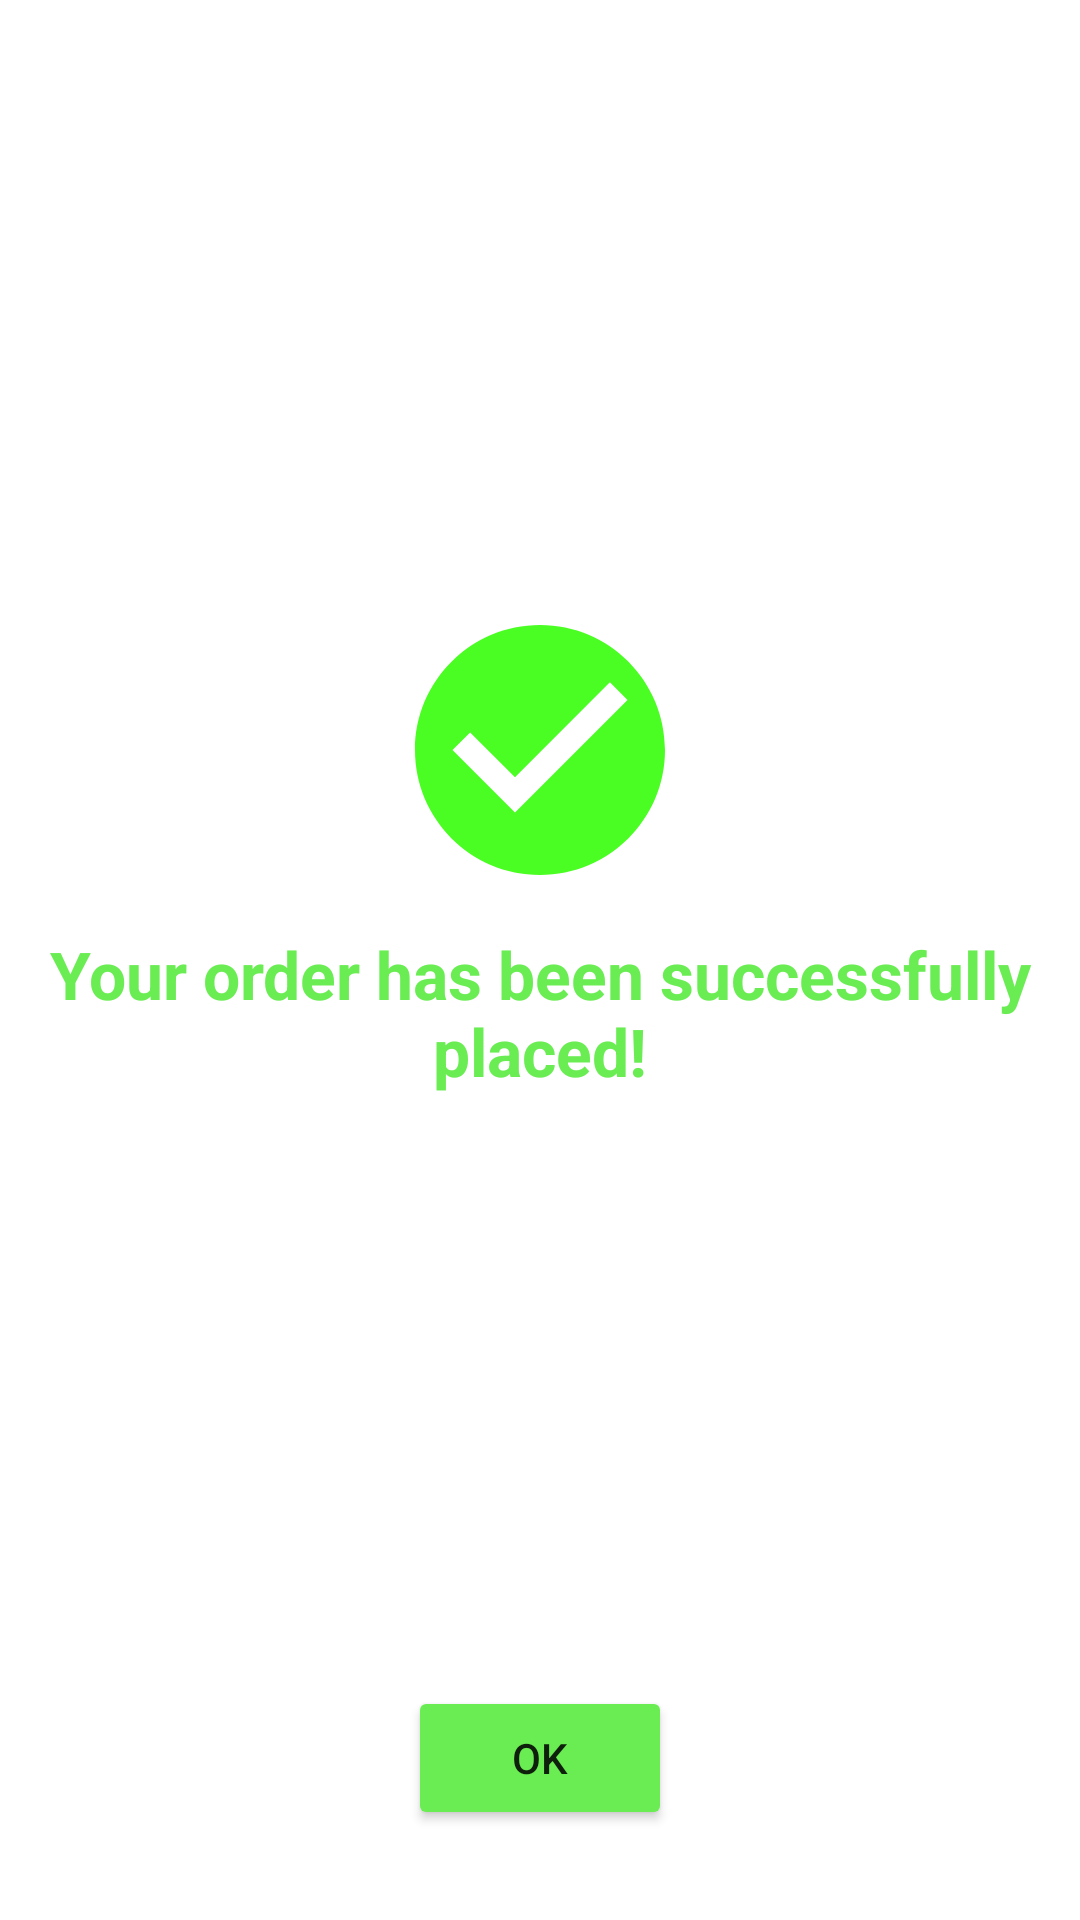

Where to tap for icons on this 1080*1920 app screen, as [x,y]:
check circle: [540,750]
